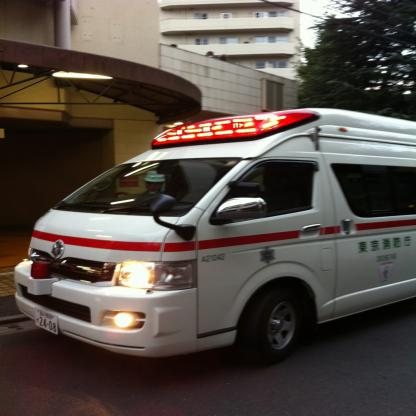Ambulance: (14, 108, 416, 362)
